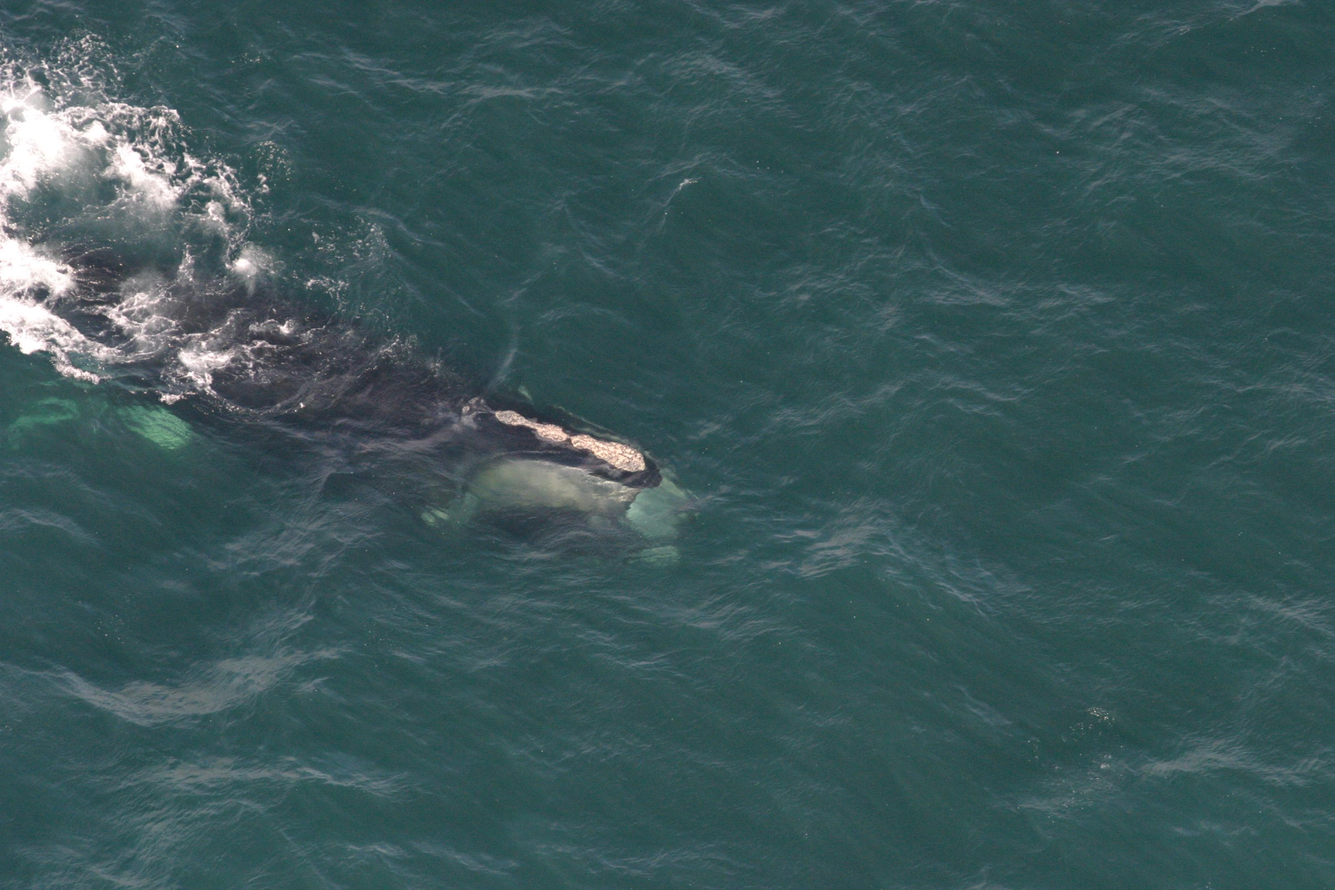whale: (0, 205, 711, 594)
